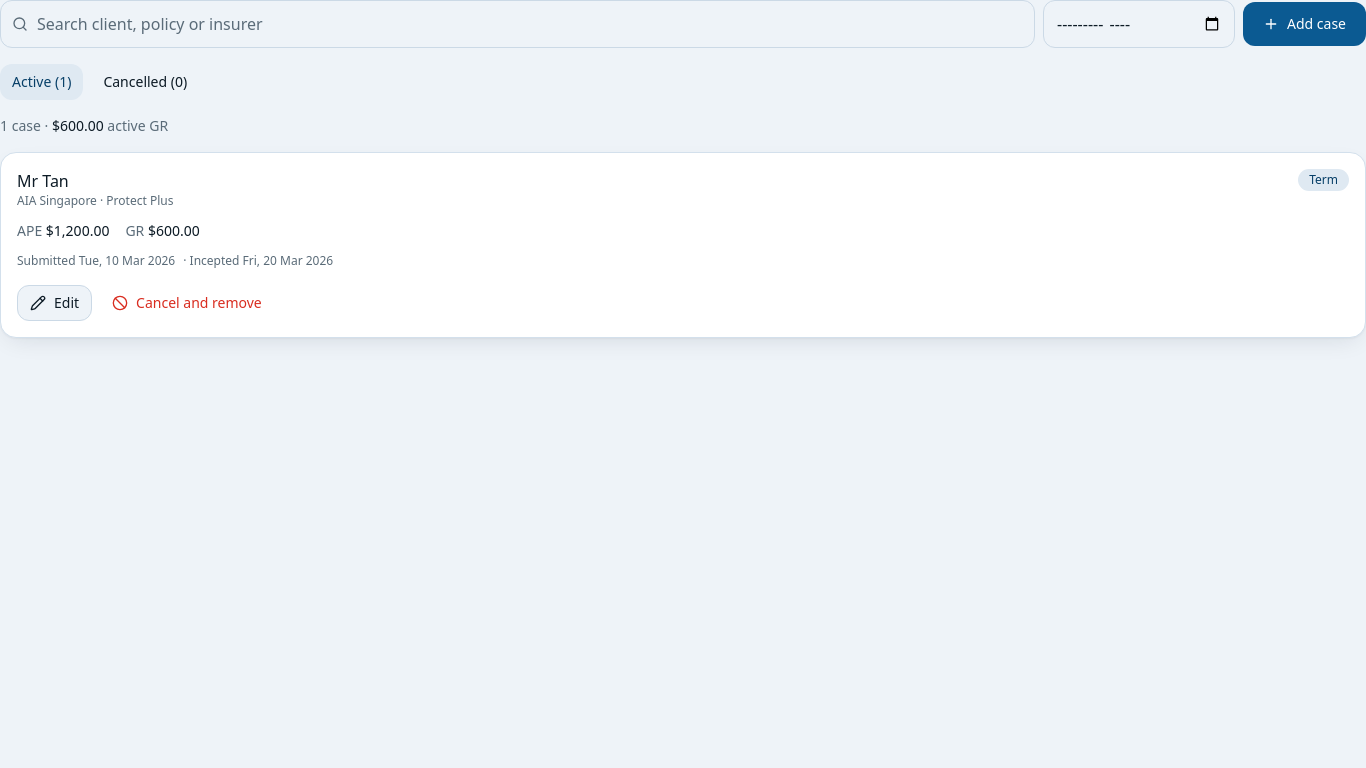
Test case: case list › warns that cancelling stops it counting, before it happens
Click the button "Cancel and remove".
click(187, 303)  # box [100, 285, 274, 321]
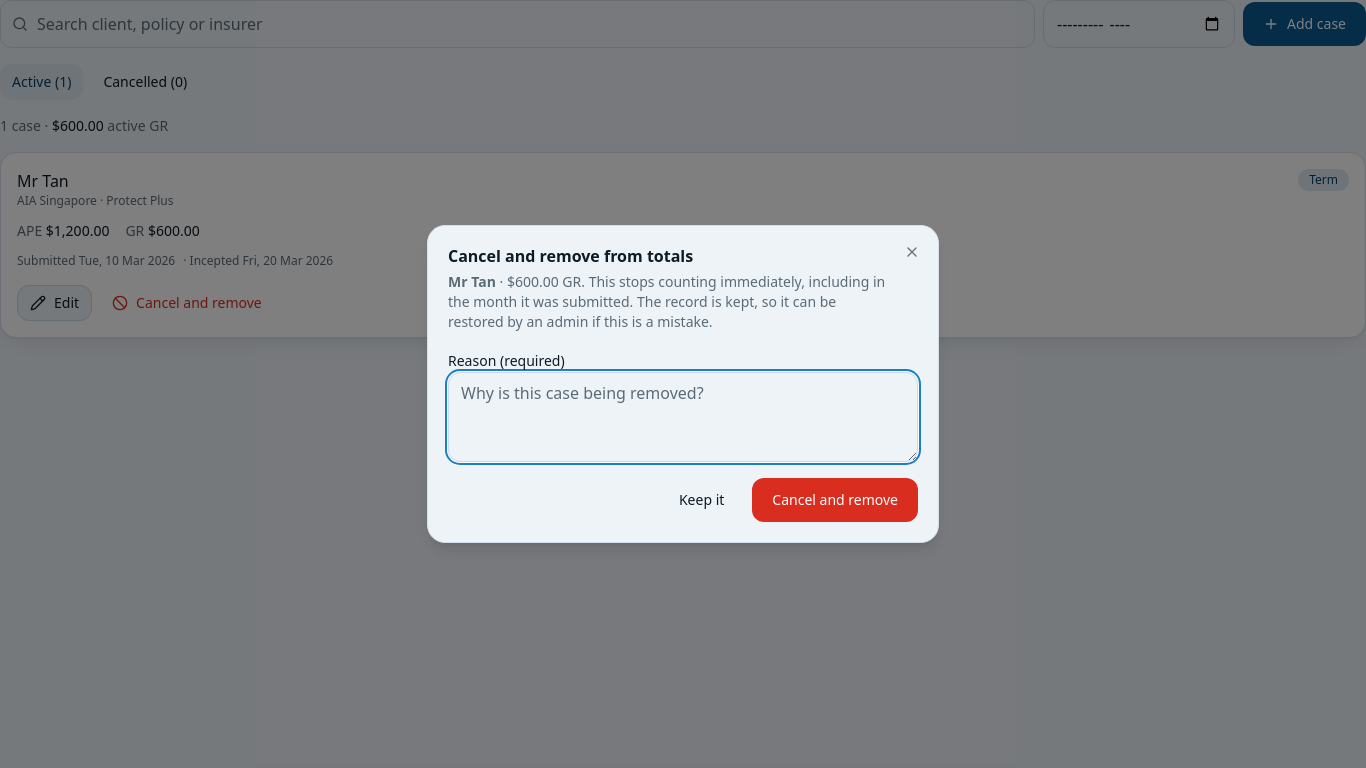
Now the dialog shows "stops counting immediately", box [448, 272, 885, 331]
Now the dialog shows "record is kept", box [448, 272, 885, 331]
